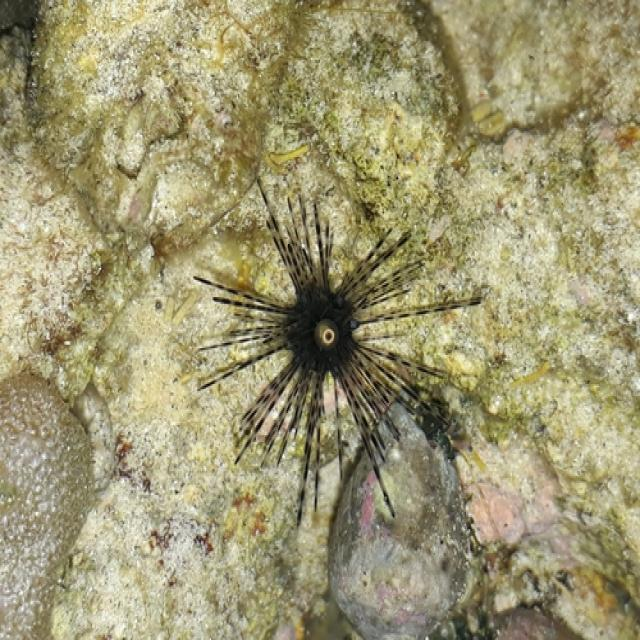Urchin: (189, 183, 480, 527)
